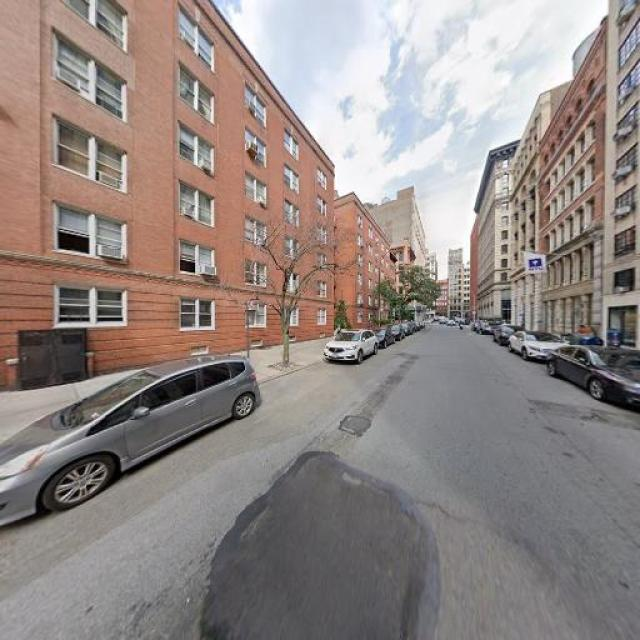Building: (1, 1, 332, 393), (539, 19, 610, 347), (619, 1, 640, 350), (354, 195, 395, 335)
